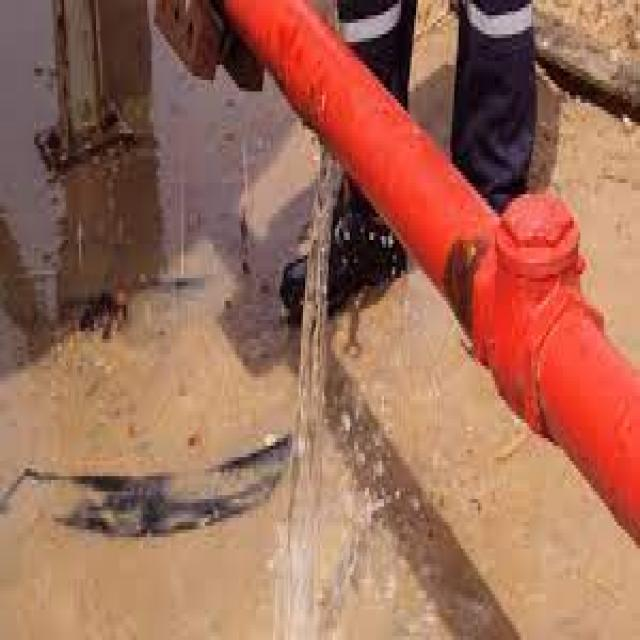corrosion: (260, 58, 445, 335)
